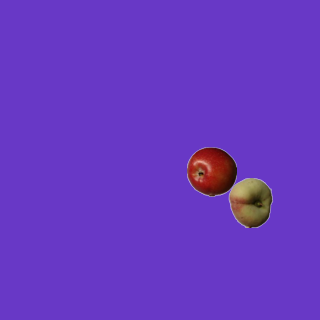Apple Braeburn: (186, 146, 236, 196)
Peach Flat: (225, 177, 275, 227)
